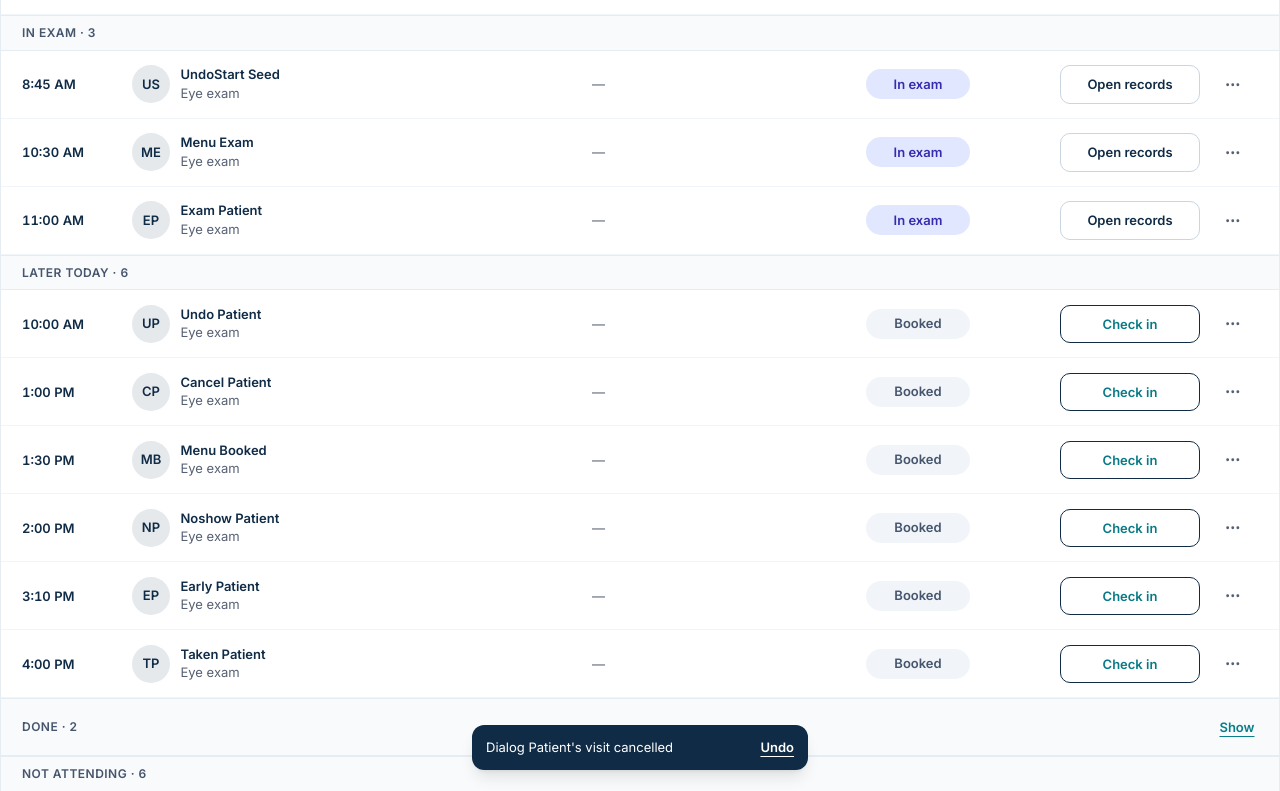
Test case: Appointments (staff) › the cancel dialog needs a reason before it can be confirmed, and can be backed out of
(page scrolled)
Click the button named "More actions for Cancel Patient": (1233,392) [1214, 373, 1252, 411]
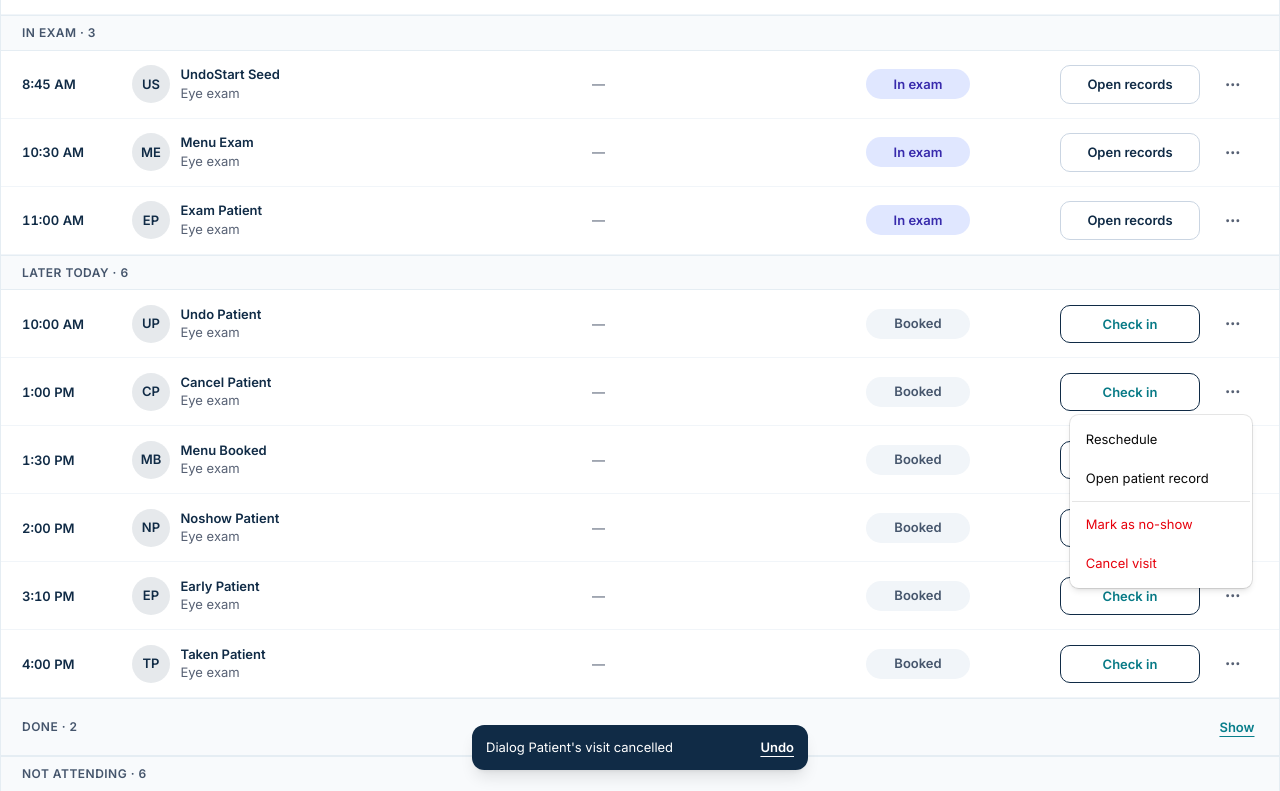
Click the menu item "Cancel visit": (1121,563) [1086, 555, 1157, 571]
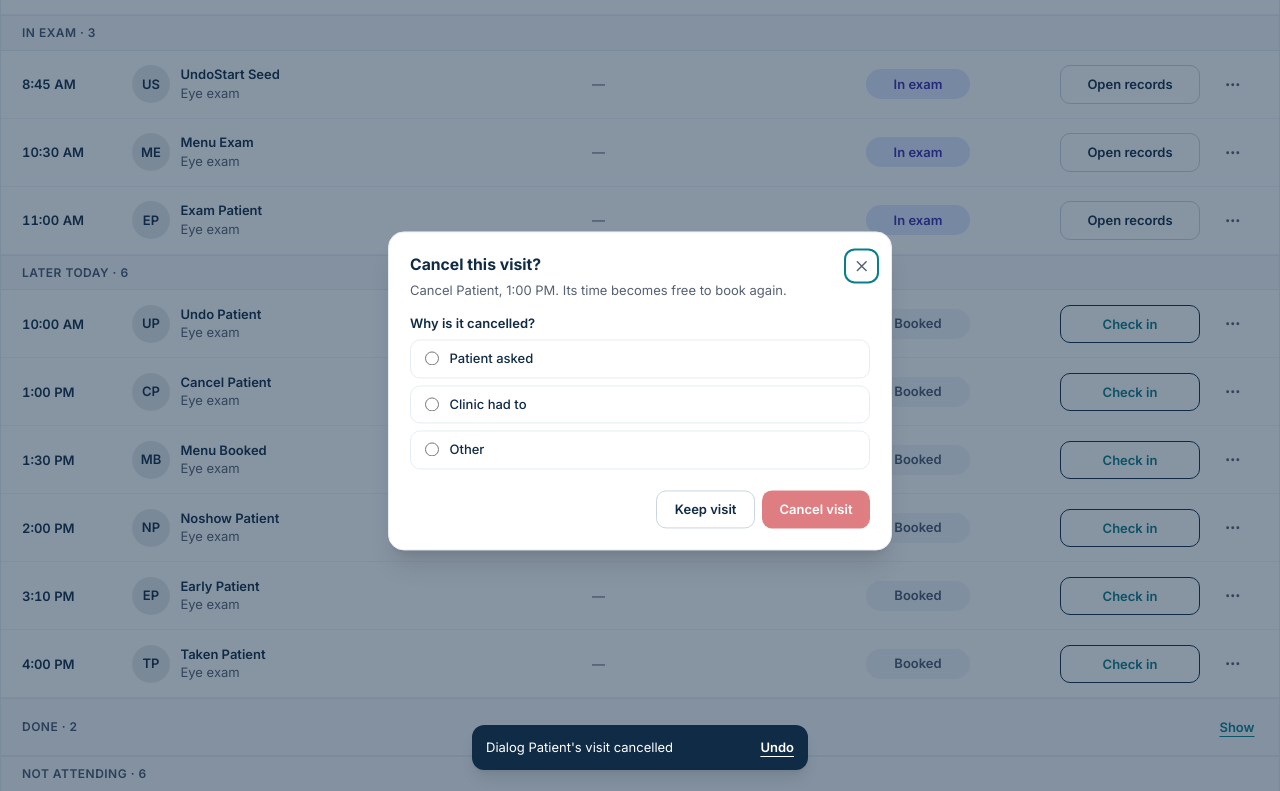
Expected: the button "Cancel visit" is disabled, [762, 490, 870, 529]
Click the button "Keep visit": (706,509) [656, 490, 755, 529]
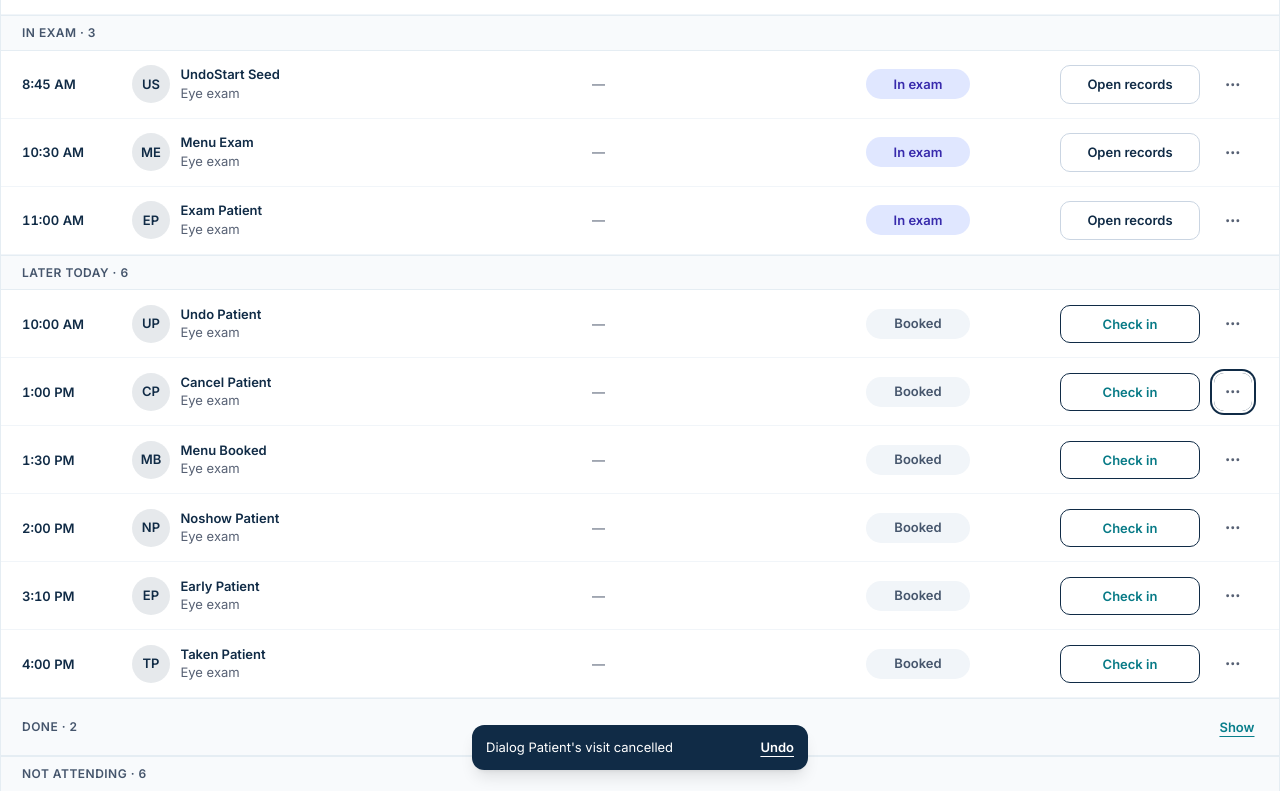
Expected: the text "Booked" in the row of "1:00 PM" is shown, [894, 383, 942, 399]
Expected: the dialog is gone
